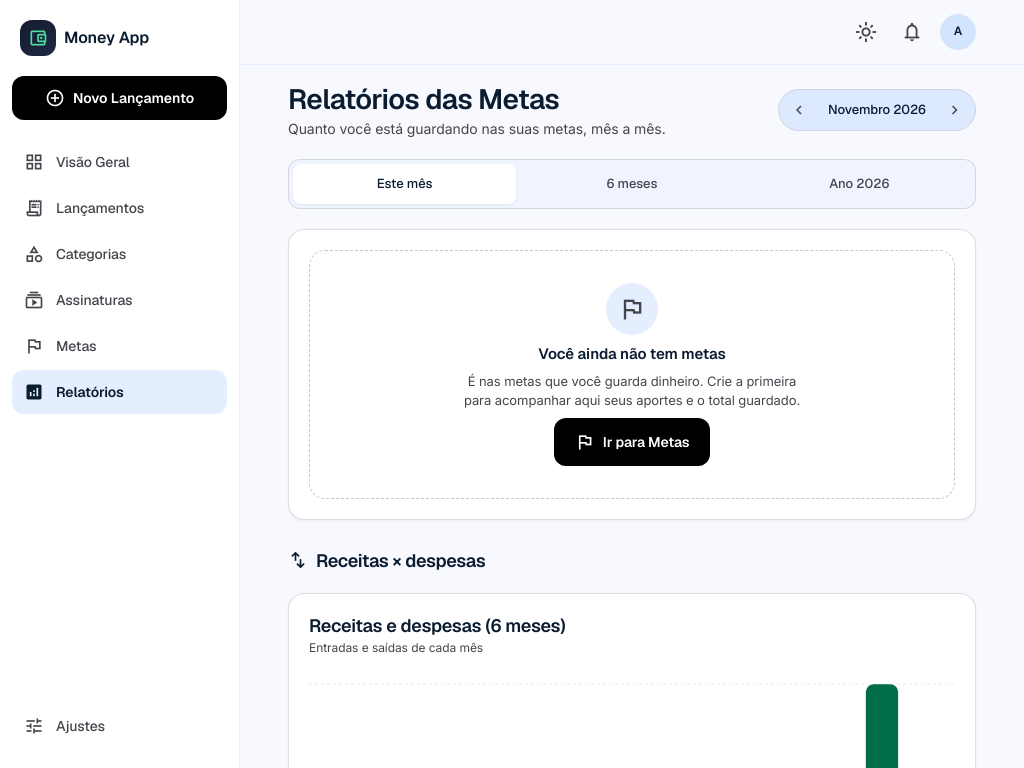
Gráficos centrados nas metas › sem metas, mostra um estado vazio que leva à tela de Metas
The width and height of the screenshot is (1024, 768).
expect the text "Você ainda não tem metas" is shown: met, box [538,343,726,364]
expect the heading "Receitas × despesas" is shown: met, box [288,548,485,572]
Step 1. Click the button "Ir para Metas" → x=632, y=442, box [554,418,710,466]
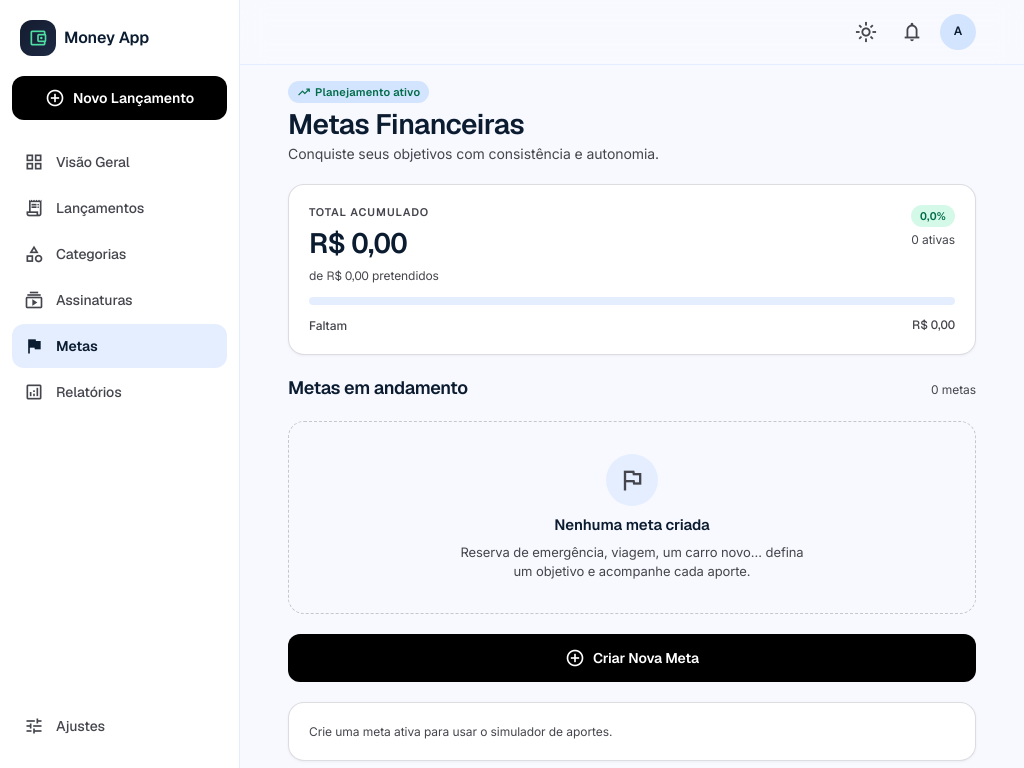
expect the heading "Metas Financeiras" is shown: met, box [288,106,524,142]
